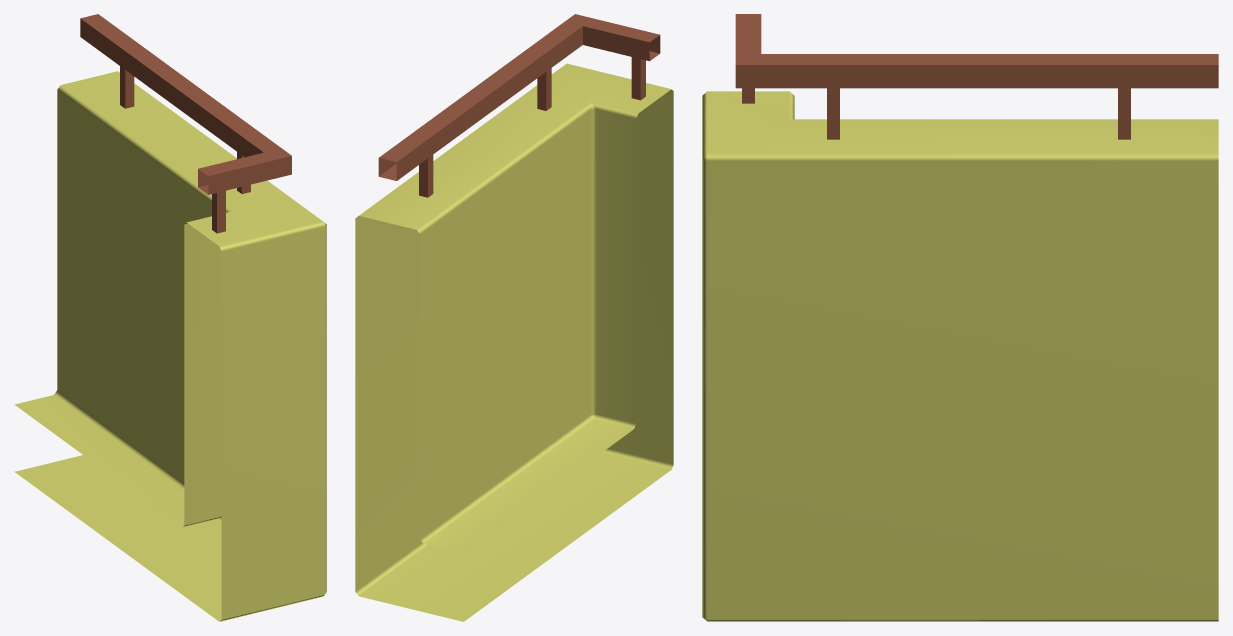
Rendered from DBK_Balcony_C_End.fbx.
3 views of the same model, side by side, from view 1: azimuth 30°, elevation 25°; view 2: azimuth 150°, elevation 25°; view 3: azimuth 270°, elevation 25° (orthographic). The views are drawn at different scales.
Visible parts, largest first — view 1: DBK_Balcony_C_End, DBK_Balcony_C_Metal_End; view 2: DBK_Balcony_C_End, DBK_Balcony_C_Metal_End; view 3: DBK_Balcony_C_End, DBK_Balcony_C_Metal_End.
Boxes of the visible parts, left/top/right/bottom form: DBK_Balcony_C_End: left=14, top=71, right=326, bottom=621; DBK_Balcony_C_Metal_End: left=80, top=14, right=291, bottom=233; DBK_Balcony_C_End: left=355, top=63, right=673, bottom=621; DBK_Balcony_C_Metal_End: left=378, top=14, right=660, bottom=197; DBK_Balcony_C_End: left=702, top=91, right=1218, bottom=621; DBK_Balcony_C_Metal_End: left=735, top=14, right=1218, bottom=139.
Bounding box in the file's own units: 30 × 117 × 101.
